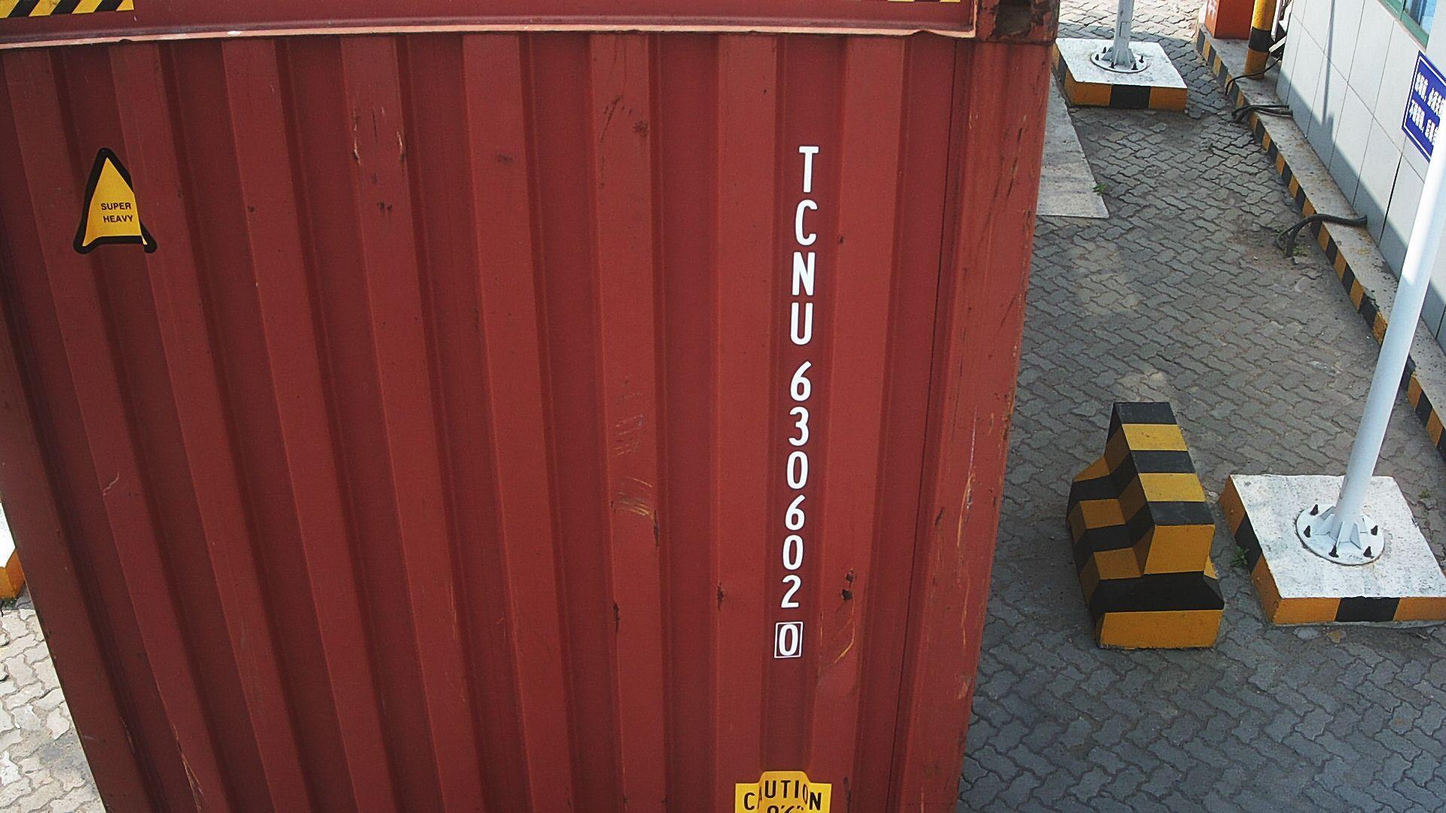container-numbers: (768, 137, 826, 667)
